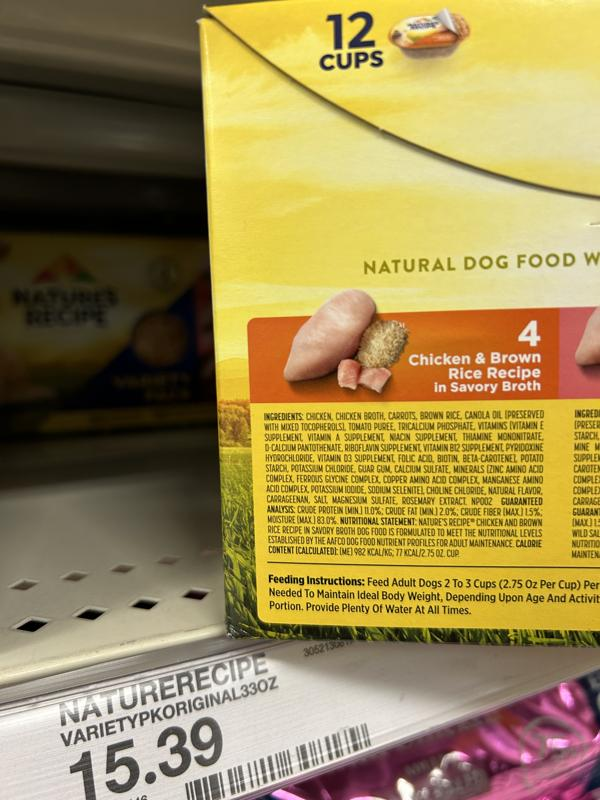ingredients: (262, 408, 545, 557)
